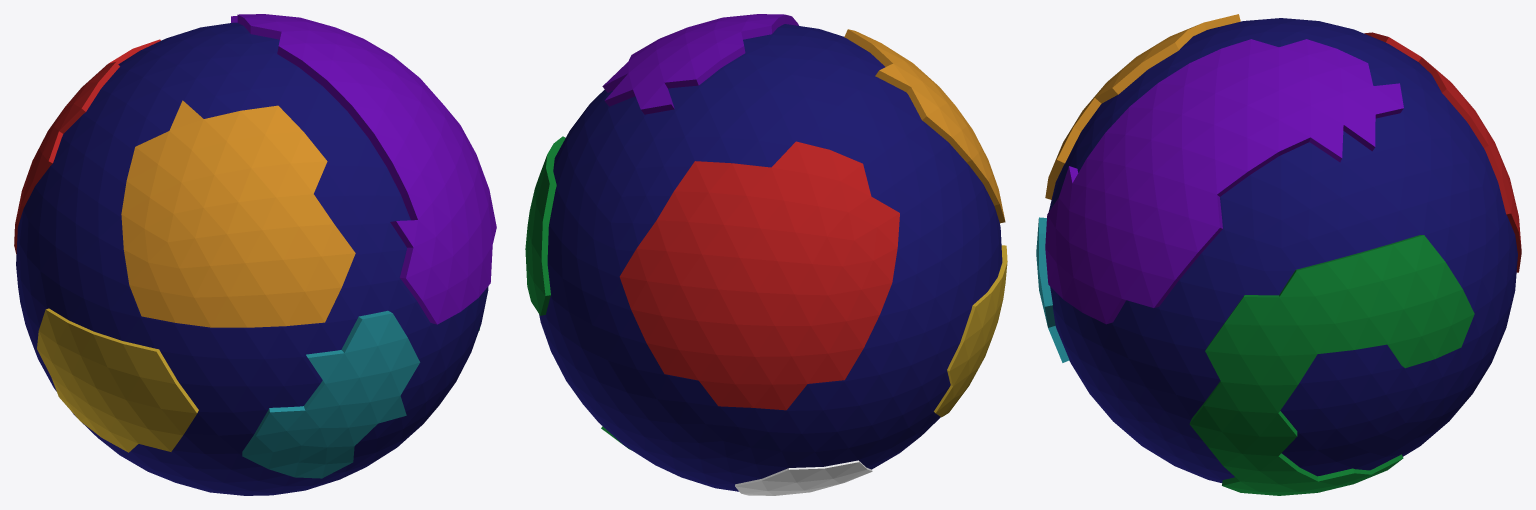
File: Hub Planet.fbx
3 views of the same model, side by side, from view 1: azimuth 30°, elevation 25°; view 2: azimuth 150°, elevation 25°; view 3: azimuth 270°, elevation 25° (orthographic).
Visible parts, largest first — view 1: Icosphere, Icosphere.001; view 2: Icosphere.001, Icosphere; view 3: Icosphere, Icosphere.001.
Boxes of the visible parts, <box> form: Icosphere: <box>14,14,496,478</box>; Icosphere.001: <box>16,22,488,495</box>; Icosphere.001: <box>539,24,1002,491</box>; Icosphere: <box>525,14,1007,495</box>; Icosphere: <box>1036,14,1521,495</box>; Icosphere.001: <box>1048,18,1517,482</box>.
Size of the model in its own units: 2160 by 2138 by 2160.
